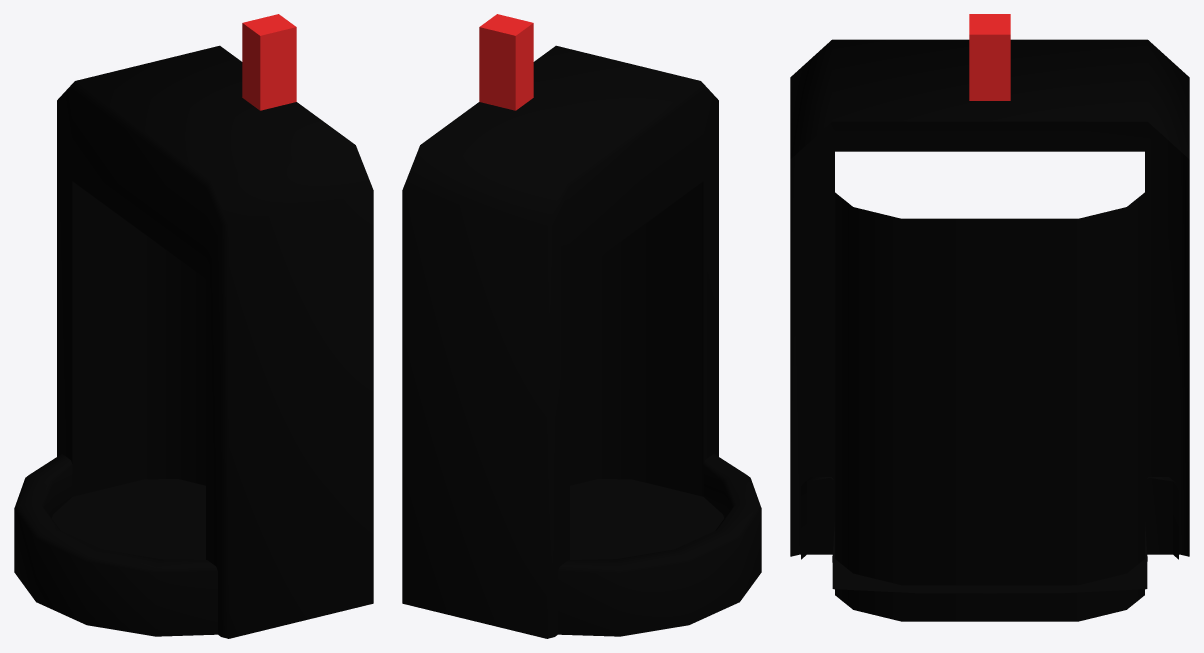
The model's file is toilet1.FBX.
3 views of the same model, side by side, from view 1: azimuth 30°, elevation 25°; view 2: azimuth 150°, elevation 25°; view 3: azimuth 270°, elevation 25° (orthographic). The views are drawn at different scales.
Parts seen in each view (by area): view 1: Box1195; view 2: Box1195; view 3: Box1195.
Boxes of the visible parts, x1,y1,x2,y2 form: Box1195: [14, 14, 373, 638]; Box1195: [402, 14, 761, 638]; Box1195: [790, 14, 1189, 621].
Size of the model in its own units: 1.11 by 2.19 by 1.31.
